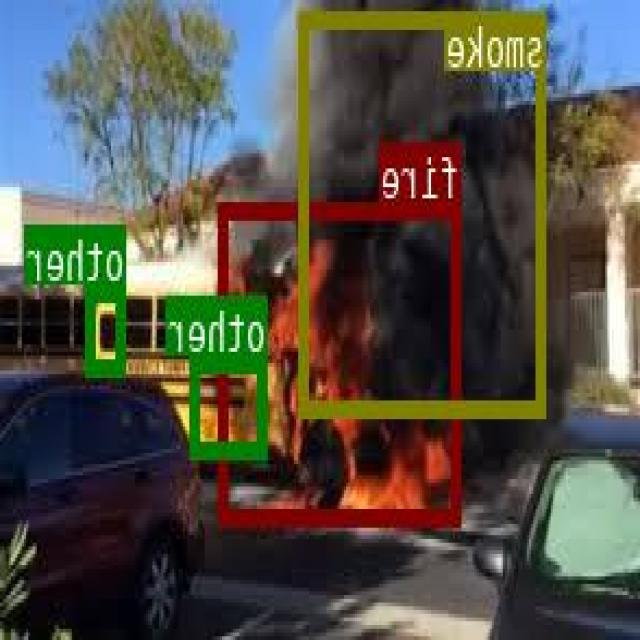fire: (221, 199, 462, 523)
other: (192, 353, 269, 453), (87, 282, 128, 371)
smoke: (302, 9, 547, 413)
